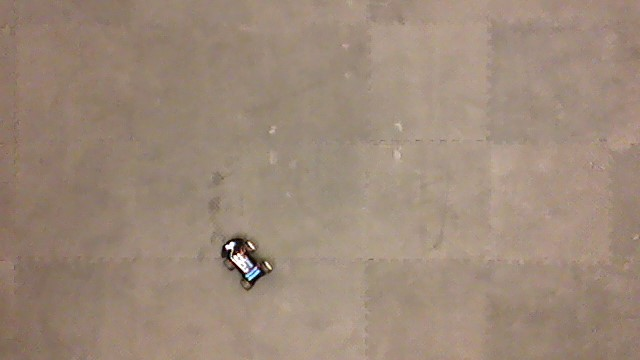Agent: (219, 236, 275, 292)
